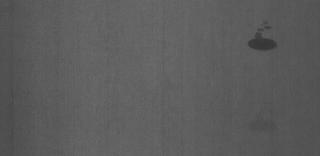oil spot: (242, 18, 282, 53)
